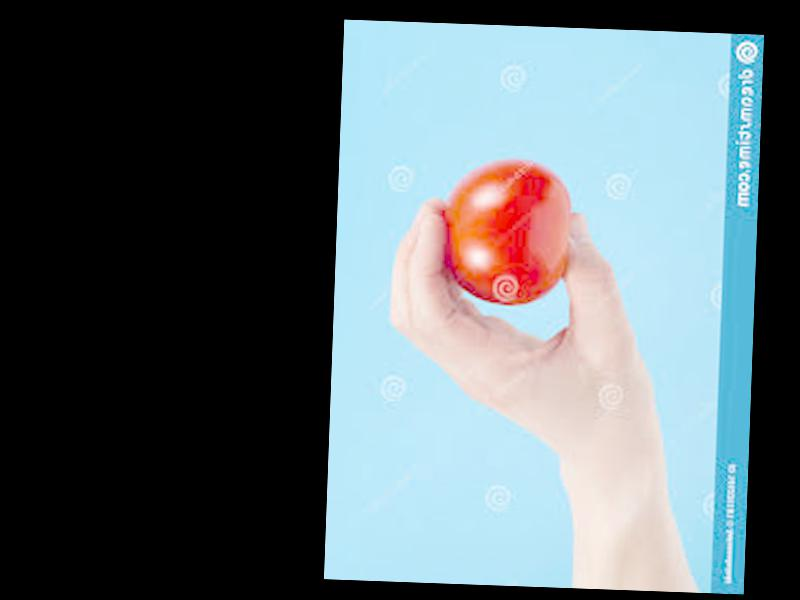Tomato: (437, 157, 572, 306)
